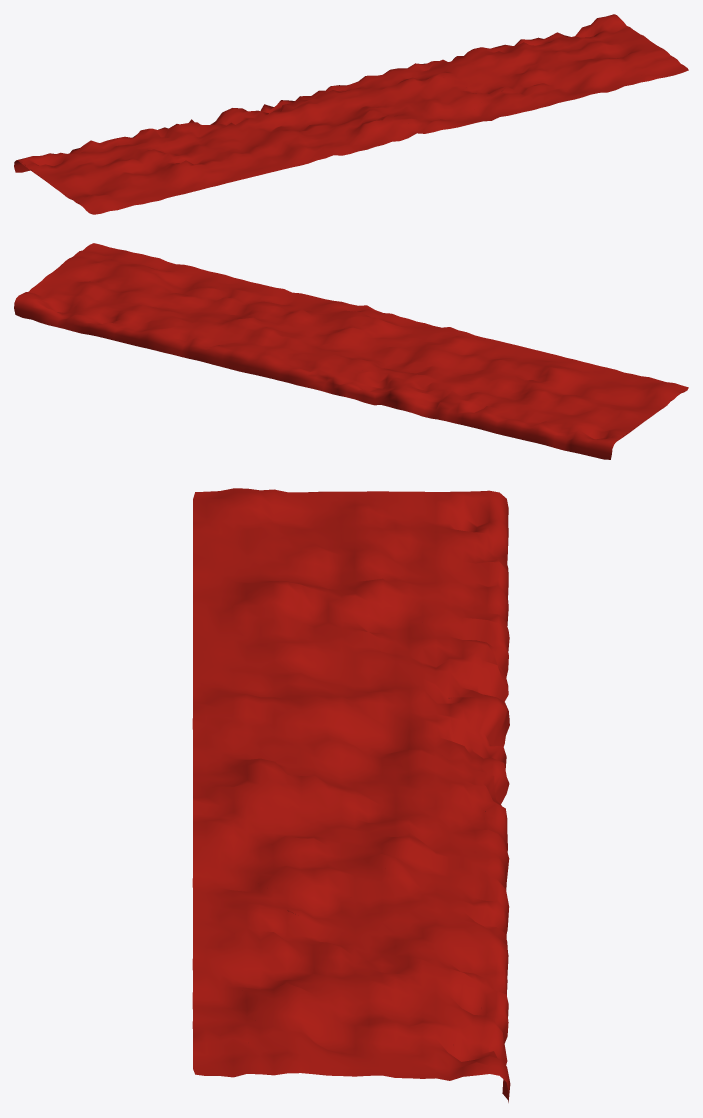
File: hellfire_ledge_terrain.fbx
3 renders of one model, top to bottom at view 1: azimuth 30°, elevation 25°; view 2: azimuth 150°, elevation 25°; view 3: azimuth 270°, elevation 25°, orthographic. The views are drawn at different scales.
Visible parts, largest first — view 1: LedgeLP; view 2: LedgeLP; view 3: LedgeLP.
Part boxes in pixels (x1,y1,x2,y2): LedgeLP: [14, 14, 688, 214]; LedgeLP: [14, 243, 688, 459]; LedgeLP: [192, 488, 510, 1102].
Bounding box in the file's own units: 71.02 × 16.34 × 3.57.
